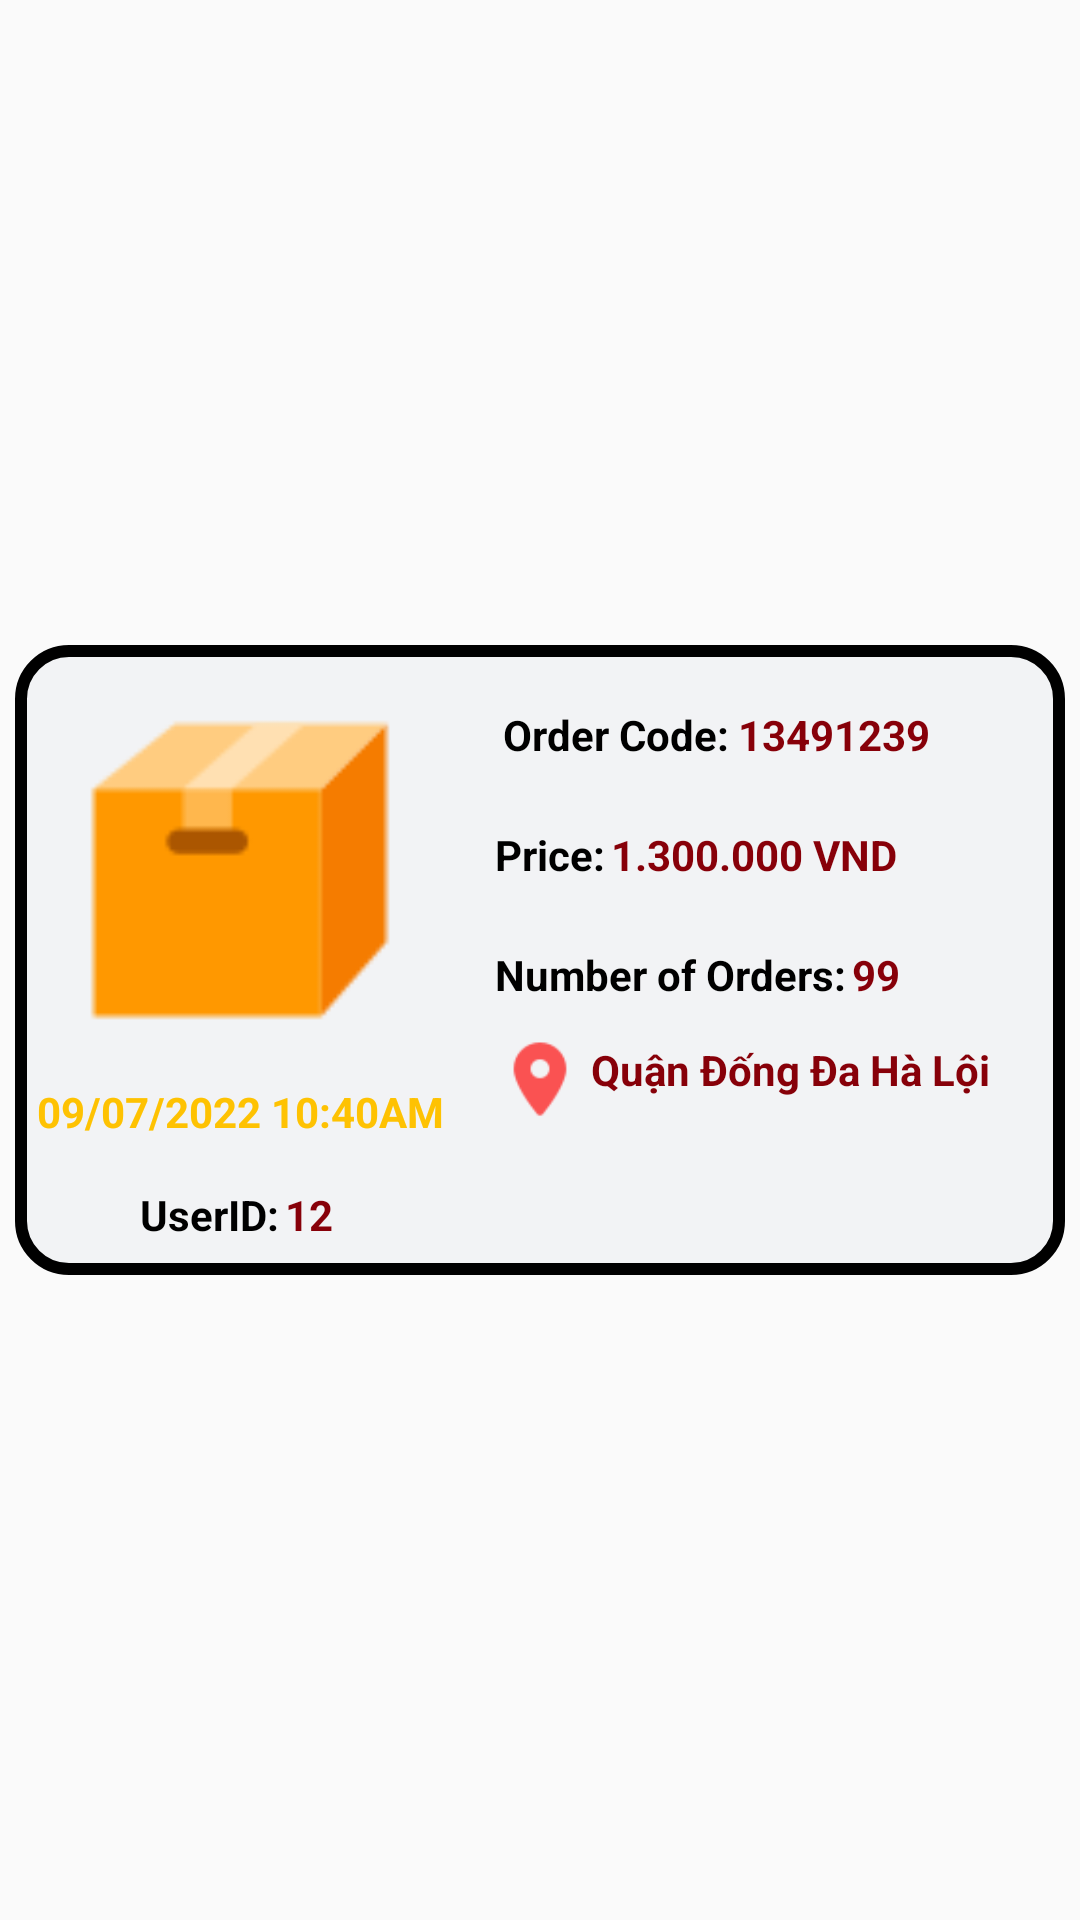

Locate icon controls on the screen. Image size 1080×1920, boxes as [x1,y1,x2,y2].
tmbox: [91,721,389,1019]
tmlocated: [513,1042,567,1116]
